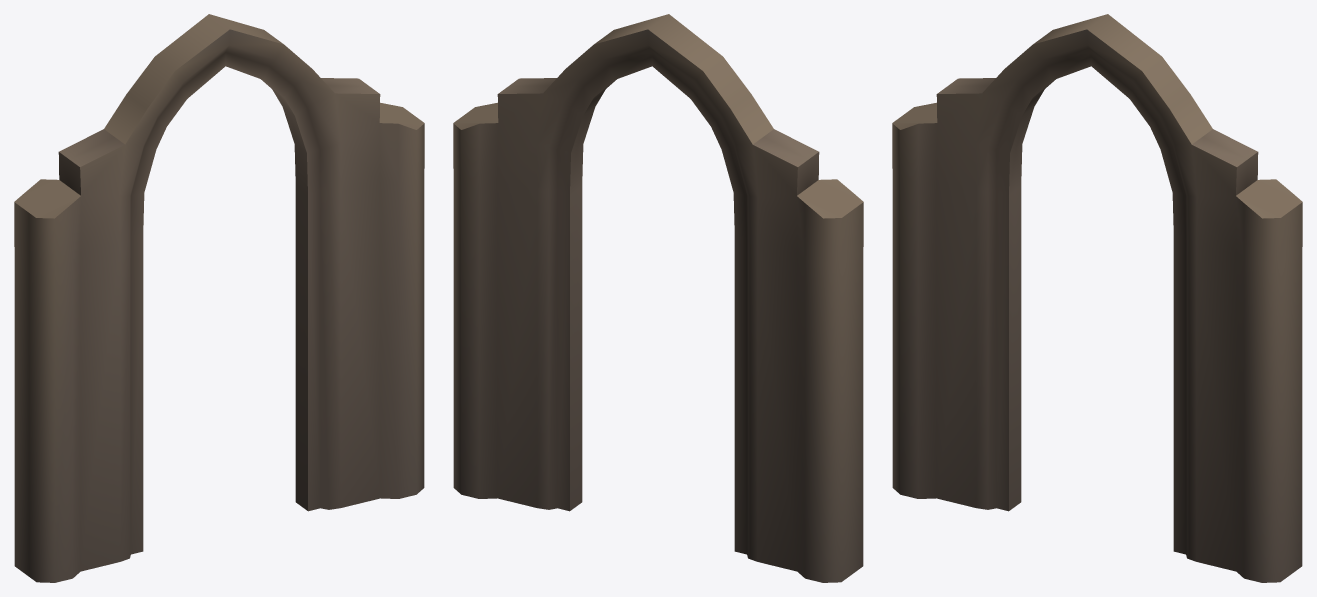
The model's file is buildings-ruins-cathedralruins_v3.glb.
3 renders of one model, left to right at view 1: azimuth 30°, elevation 25°; view 2: azimuth 150°, elevation 25°; view 3: azimuth 330°, elevation 25°, orthographic.
Visible parts, largest first — view 1: CathedralRuins_v3; view 2: CathedralRuins_v3; view 3: CathedralRuins_v3.
Boxes of the visible parts, bbox=[...] form: CathedralRuins_v3: bbox=[14, 14, 424, 582]; CathedralRuins_v3: bbox=[453, 14, 863, 582]; CathedralRuins_v3: bbox=[892, 14, 1302, 582].
Size of the model in its own units: 10.64 by 13.22 by 1.54.
